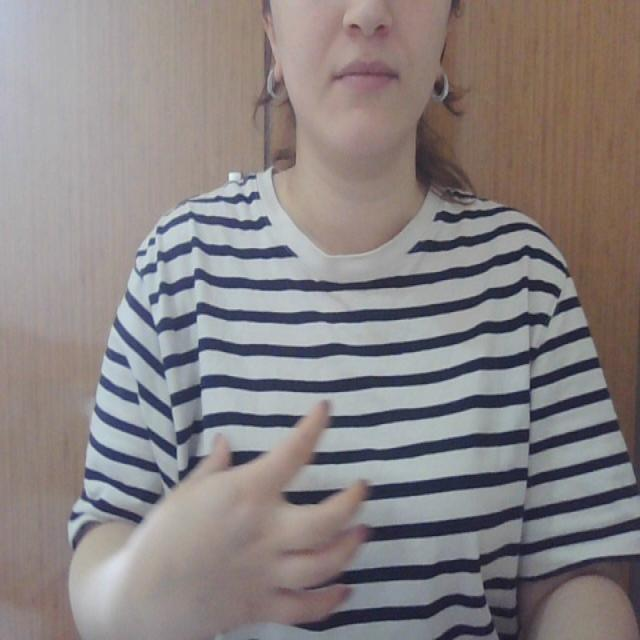Anne: (155, 391, 551, 629)
